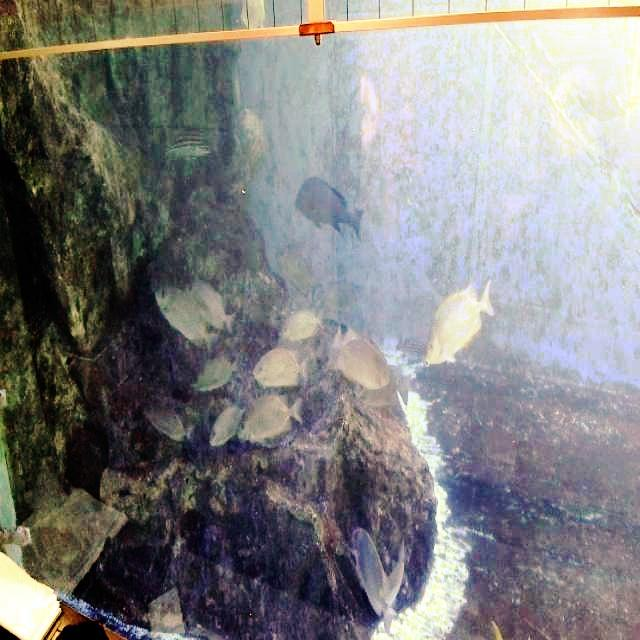Plectorhinchus lessonii: (158, 124, 220, 170)
gold snapper: (419, 271, 499, 379), (342, 516, 406, 634), (323, 311, 396, 402), (230, 384, 310, 456), (150, 274, 220, 354), (248, 338, 312, 396), (140, 392, 193, 458), (271, 295, 325, 351), (205, 394, 249, 454), (192, 352, 242, 402)
